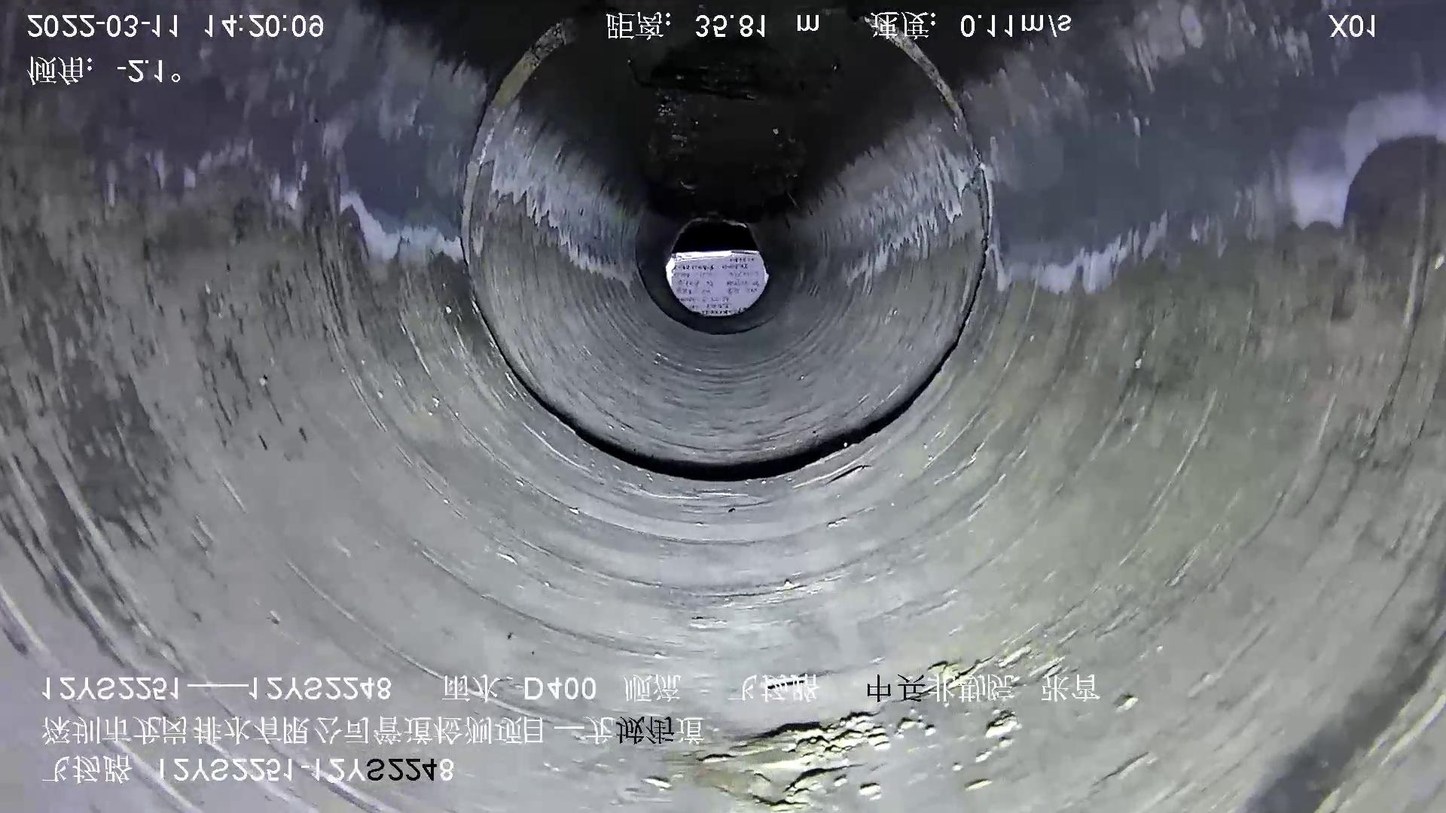CJ: (606, 1, 916, 224)
CKTJ: (460, 15, 996, 480)
